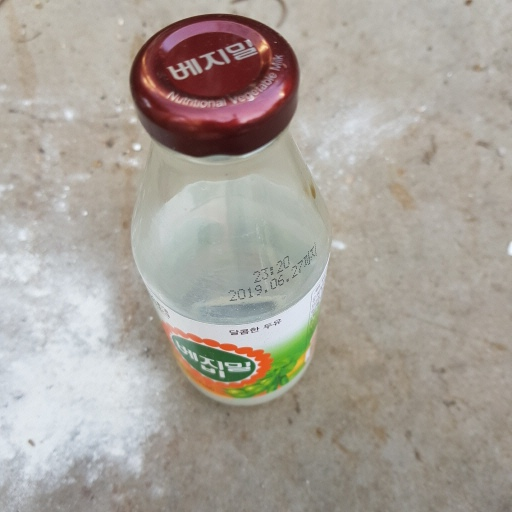Glass_4: (126, 12, 337, 407)
